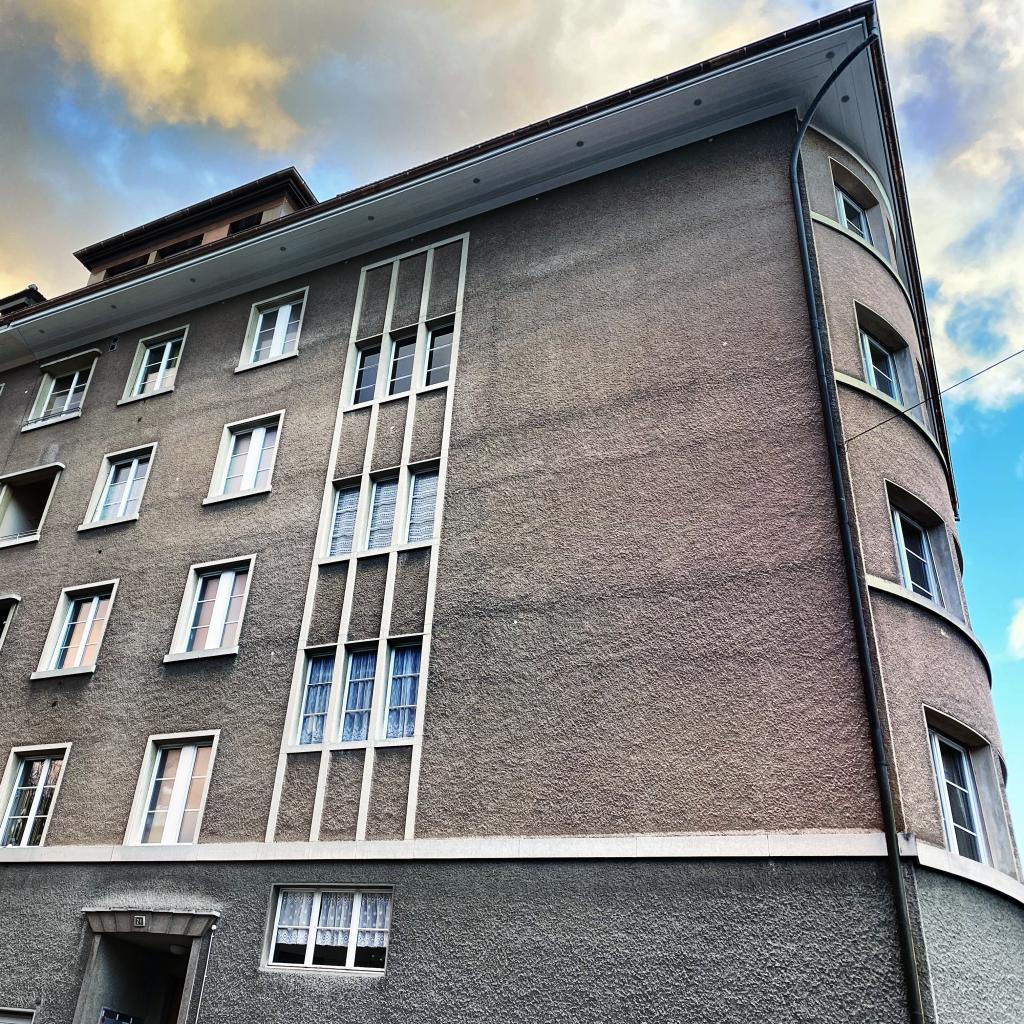balcony-fence: (0, 528, 38, 544)
facade: (0, 0, 1024, 1024)
window: (267, 889, 393, 973), (930, 729, 991, 868), (136, 741, 213, 845), (179, 566, 250, 653), (0, 755, 65, 847), (45, 593, 112, 670), (892, 509, 942, 606), (218, 421, 279, 496), (89, 454, 151, 522), (382, 643, 422, 740), (294, 653, 336, 745), (248, 297, 304, 365), (337, 648, 377, 743), (128, 338, 183, 398), (862, 332, 901, 404), (39, 365, 92, 417), (404, 466, 439, 544), (364, 475, 399, 551), (326, 483, 361, 558), (421, 321, 454, 387), (385, 332, 417, 397), (836, 189, 871, 244), (350, 343, 381, 405)
